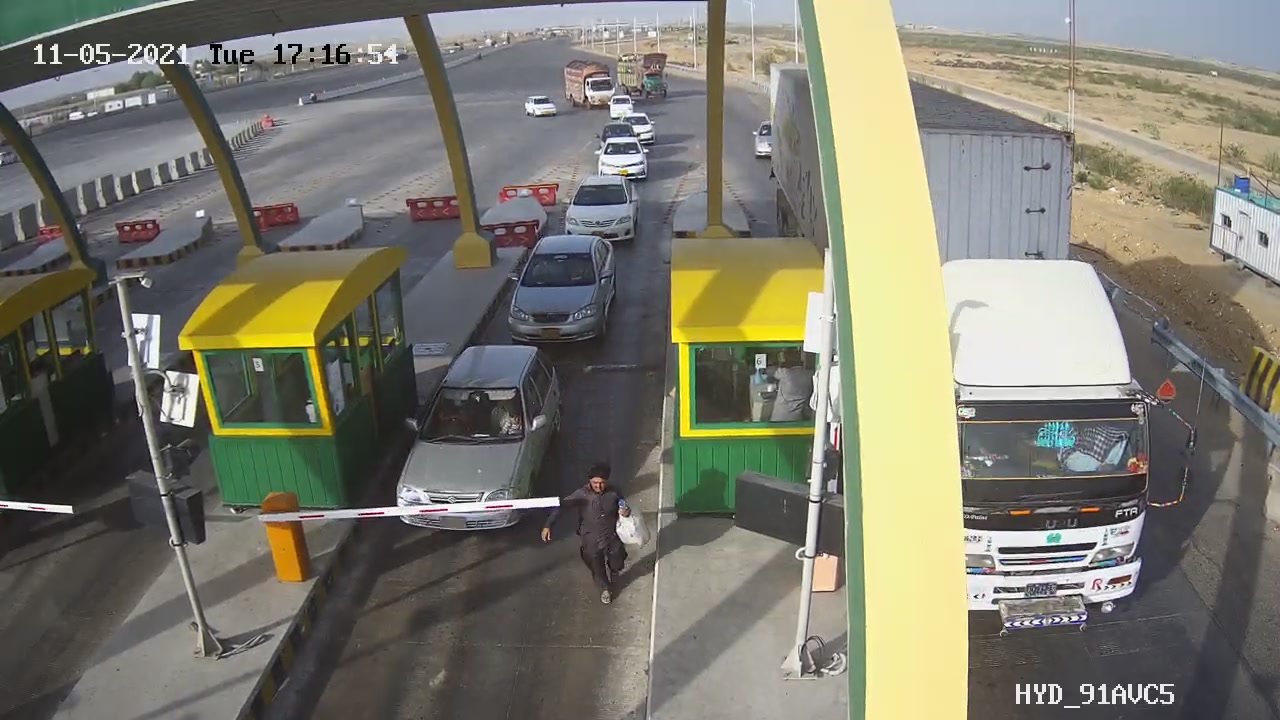F1: (373, 333, 577, 540), (496, 225, 634, 355)
